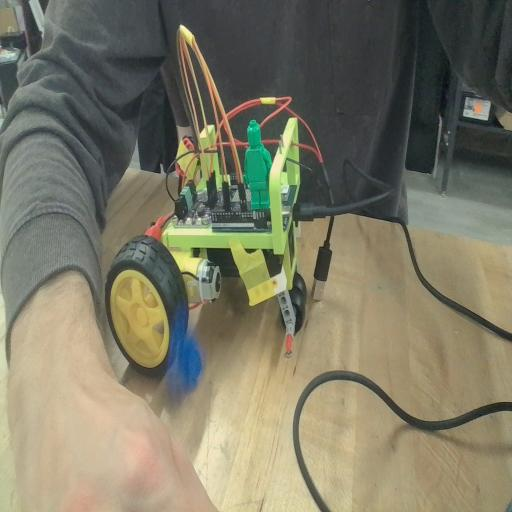blue LEGO minifig: (166, 311, 204, 391)
green LEGO minifig: (241, 117, 274, 215)
